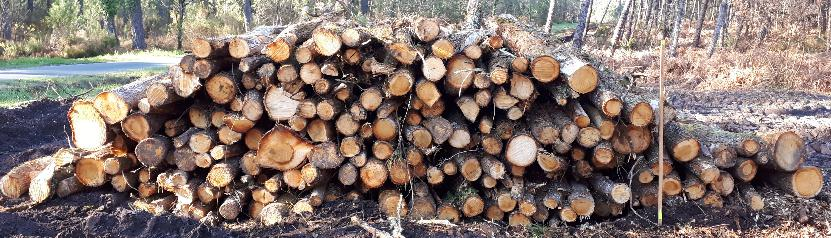etalon: (658, 38, 666, 222)
object: (248, 119, 317, 168), (64, 99, 106, 149), (267, 83, 301, 121), (773, 131, 802, 168), (616, 125, 649, 157), (444, 53, 474, 88), (92, 88, 126, 118), (68, 155, 105, 182), (792, 166, 822, 199), (569, 63, 600, 93), (506, 134, 537, 164), (308, 26, 340, 54), (384, 37, 417, 64), (284, 160, 317, 187), (30, 161, 54, 198), (173, 67, 203, 96), (207, 71, 235, 102), (358, 156, 387, 185), (387, 154, 415, 183), (134, 136, 163, 163), (381, 191, 408, 219), (671, 136, 698, 164), (117, 117, 154, 137), (51, 146, 79, 171), (421, 53, 445, 82), (455, 97, 481, 123), (145, 76, 166, 108), (529, 57, 558, 80), (413, 17, 440, 41), (427, 116, 451, 142), (533, 122, 559, 146), (571, 192, 594, 218), (576, 123, 602, 146), (416, 76, 437, 104), (311, 144, 339, 165), (389, 66, 409, 95), (460, 188, 482, 214), (307, 118, 333, 140), (407, 194, 430, 218), (187, 34, 211, 57), (360, 85, 384, 108), (629, 99, 652, 123), (237, 153, 260, 177), (710, 169, 734, 192), (262, 38, 287, 60), (461, 154, 481, 181), (169, 203, 207, 217), (510, 74, 532, 98), (246, 185, 274, 203), (653, 105, 681, 123), (373, 117, 398, 137), (160, 168, 186, 187), (635, 185, 662, 203), (699, 189, 723, 209), (230, 110, 256, 128), (536, 153, 562, 171), (405, 130, 434, 146), (218, 197, 239, 219), (712, 144, 733, 166), (336, 161, 358, 182), (210, 164, 232, 185), (495, 88, 518, 108), (446, 127, 471, 145), (174, 146, 195, 167), (494, 187, 514, 209), (437, 199, 457, 221), (190, 106, 212, 126), (189, 132, 213, 150), (341, 133, 361, 154), (430, 39, 456, 55), (3, 173, 21, 196), (196, 179, 214, 202), (336, 113, 356, 133), (292, 44, 313, 63), (606, 181, 630, 197), (245, 126, 265, 145), (480, 131, 500, 150), (651, 155, 670, 175), (299, 64, 320, 82), (163, 115, 180, 137), (634, 167, 656, 184), (228, 36, 247, 55), (297, 195, 315, 215), (504, 213, 534, 225), (604, 95, 622, 115), (740, 137, 760, 155), (260, 204, 281, 221), (180, 51, 197, 72), (110, 134, 127, 155), (342, 28, 364, 44), (488, 198, 505, 218), (174, 184, 195, 200), (561, 118, 575, 142), (218, 127, 240, 142), (684, 182, 703, 199), (746, 193, 765, 210), (422, 99, 441, 116), (371, 141, 390, 158), (738, 159, 755, 178), (425, 167, 444, 184), (246, 201, 267, 216), (660, 175, 681, 190), (510, 200, 536, 212), (111, 173, 129, 190), (325, 186, 345, 201), (509, 55, 529, 70), (490, 64, 505, 84), (461, 43, 482, 57), (594, 121, 615, 135), (558, 206, 576, 222), (210, 109, 228, 125), (300, 97, 315, 116), (488, 159, 503, 178), (196, 61, 210, 81), (278, 64, 298, 78), (471, 69, 487, 86), (229, 94, 245, 111), (243, 98, 260, 114), (319, 98, 334, 116), (595, 145, 613, 160), (103, 156, 121, 171), (332, 84, 349, 99), (212, 142, 227, 159), (577, 161, 594, 176), (137, 180, 155, 194), (541, 194, 559, 208), (136, 95, 149, 114), (56, 179, 71, 195), (239, 73, 254, 89), (474, 87, 489, 103), (359, 121, 375, 136), (312, 78, 329, 92), (700, 167, 718, 180), (489, 34, 504, 49), (195, 152, 210, 167), (257, 62, 273, 76), (135, 168, 155, 179), (353, 151, 365, 169), (345, 47, 359, 62), (406, 150, 421, 164), (238, 57, 250, 74), (404, 112, 421, 124), (308, 193, 324, 205), (477, 118, 490, 132), (266, 176, 278, 191), (321, 64, 336, 75), (506, 107, 521, 118), (570, 149, 585, 160), (444, 159, 455, 174), (173, 135, 186, 146), (483, 178, 498, 187), (574, 114, 588, 122), (349, 188, 356, 199), (556, 96, 565, 103)
pile: (3, 17, 824, 225)
